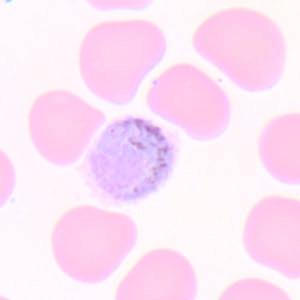Infected: (76, 113, 182, 208)
Uninfected: (191, 8, 282, 90), (79, 21, 166, 105), (147, 63, 232, 141), (52, 209, 137, 284), (29, 88, 106, 165), (241, 194, 300, 278), (117, 250, 201, 300)
